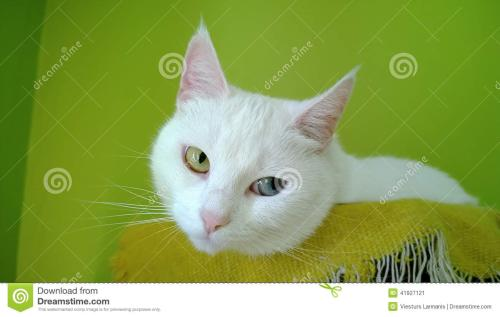cat: (146, 12, 484, 260)
